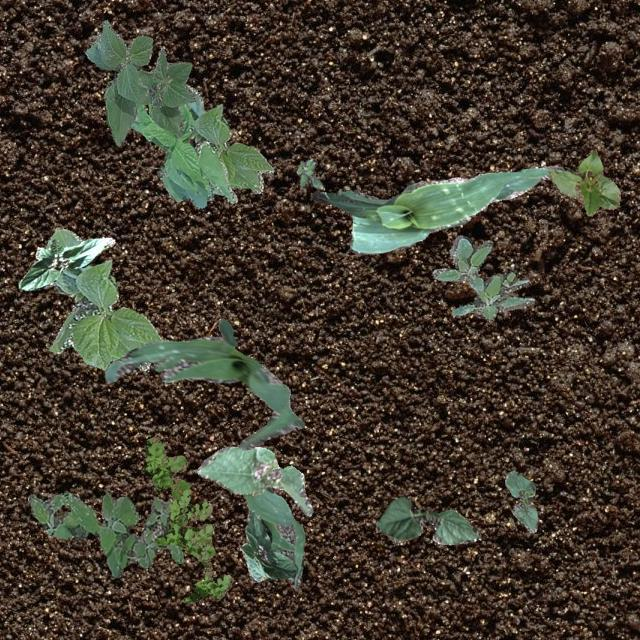crop: (104, 317, 302, 448), (311, 164, 564, 254), (45, 226, 162, 370), (84, 18, 194, 146), (128, 96, 235, 208), (184, 84, 274, 194), (196, 446, 312, 516), (244, 486, 304, 588), (374, 494, 480, 544), (18, 236, 114, 290), (548, 148, 620, 214), (240, 509, 296, 582), (504, 469, 536, 532)
weed: (144, 436, 232, 602), (27, 490, 182, 576), (432, 234, 534, 318), (296, 158, 322, 188)
